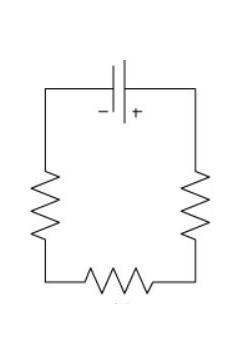resistor: (153, 152, 216, 250), (69, 252, 161, 309), (20, 158, 73, 256)
